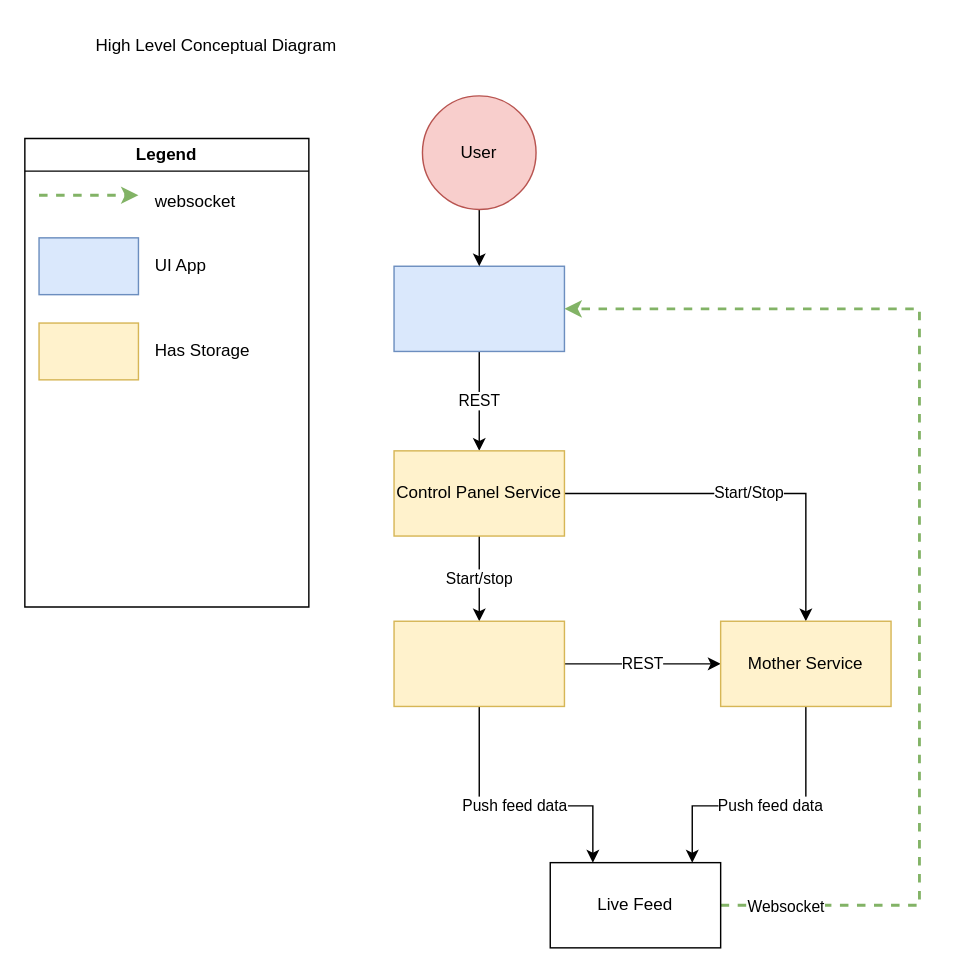
Some shapes in this 957 by 973 pixel diagram are drawn without their labels. The centre of each missing label's shape, as x and y in pixels:
"Control Panel App" goes at [478,308].
"Test Service" goes at [478,663].
